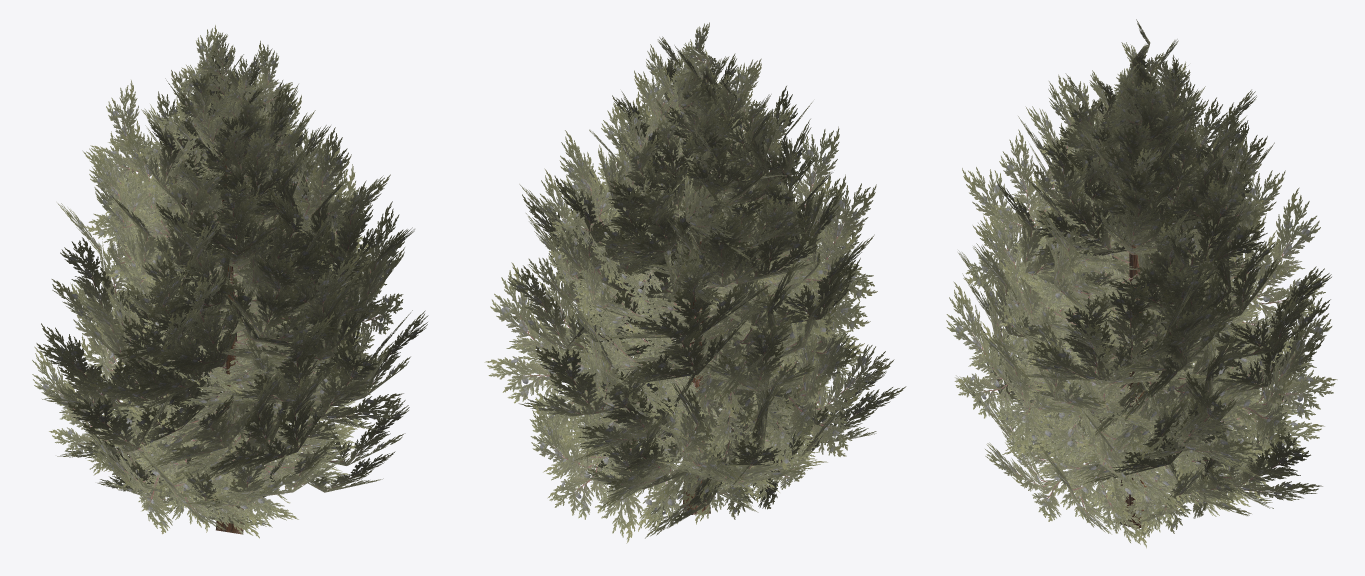
Rendered from Juniperus_Occidentalis_Spring_Young.glb.
The picture shows the model from 3 angles, left to right: view 1: azimuth 30°, elevation 25°; view 2: azimuth 150°, elevation 25°; view 3: azimuth 270°, elevation 25°; orthographic projection.
Visible parts, largest first — view 1: Juniperus_Occidentalis_Spring_Young__LOD3; view 2: Juniperus_Occidentalis_Spring_Young__LOD3; view 3: Juniperus_Occidentalis_Spring_Young__LOD3.
Part boxes in pixels (box(x1,y1,x2,y2)): Juniperus_Occidentalis_Spring_Young__LOD3: box(32, 25, 428, 538); Juniperus_Occidentalis_Spring_Young__LOD3: box(484, 22, 906, 543); Juniperus_Occidentalis_Spring_Young__LOD3: box(946, 19, 1337, 548).
Size of the model in its own units: 2.17 by 2.75 by 2.04.
2 materials, 2 textured.
